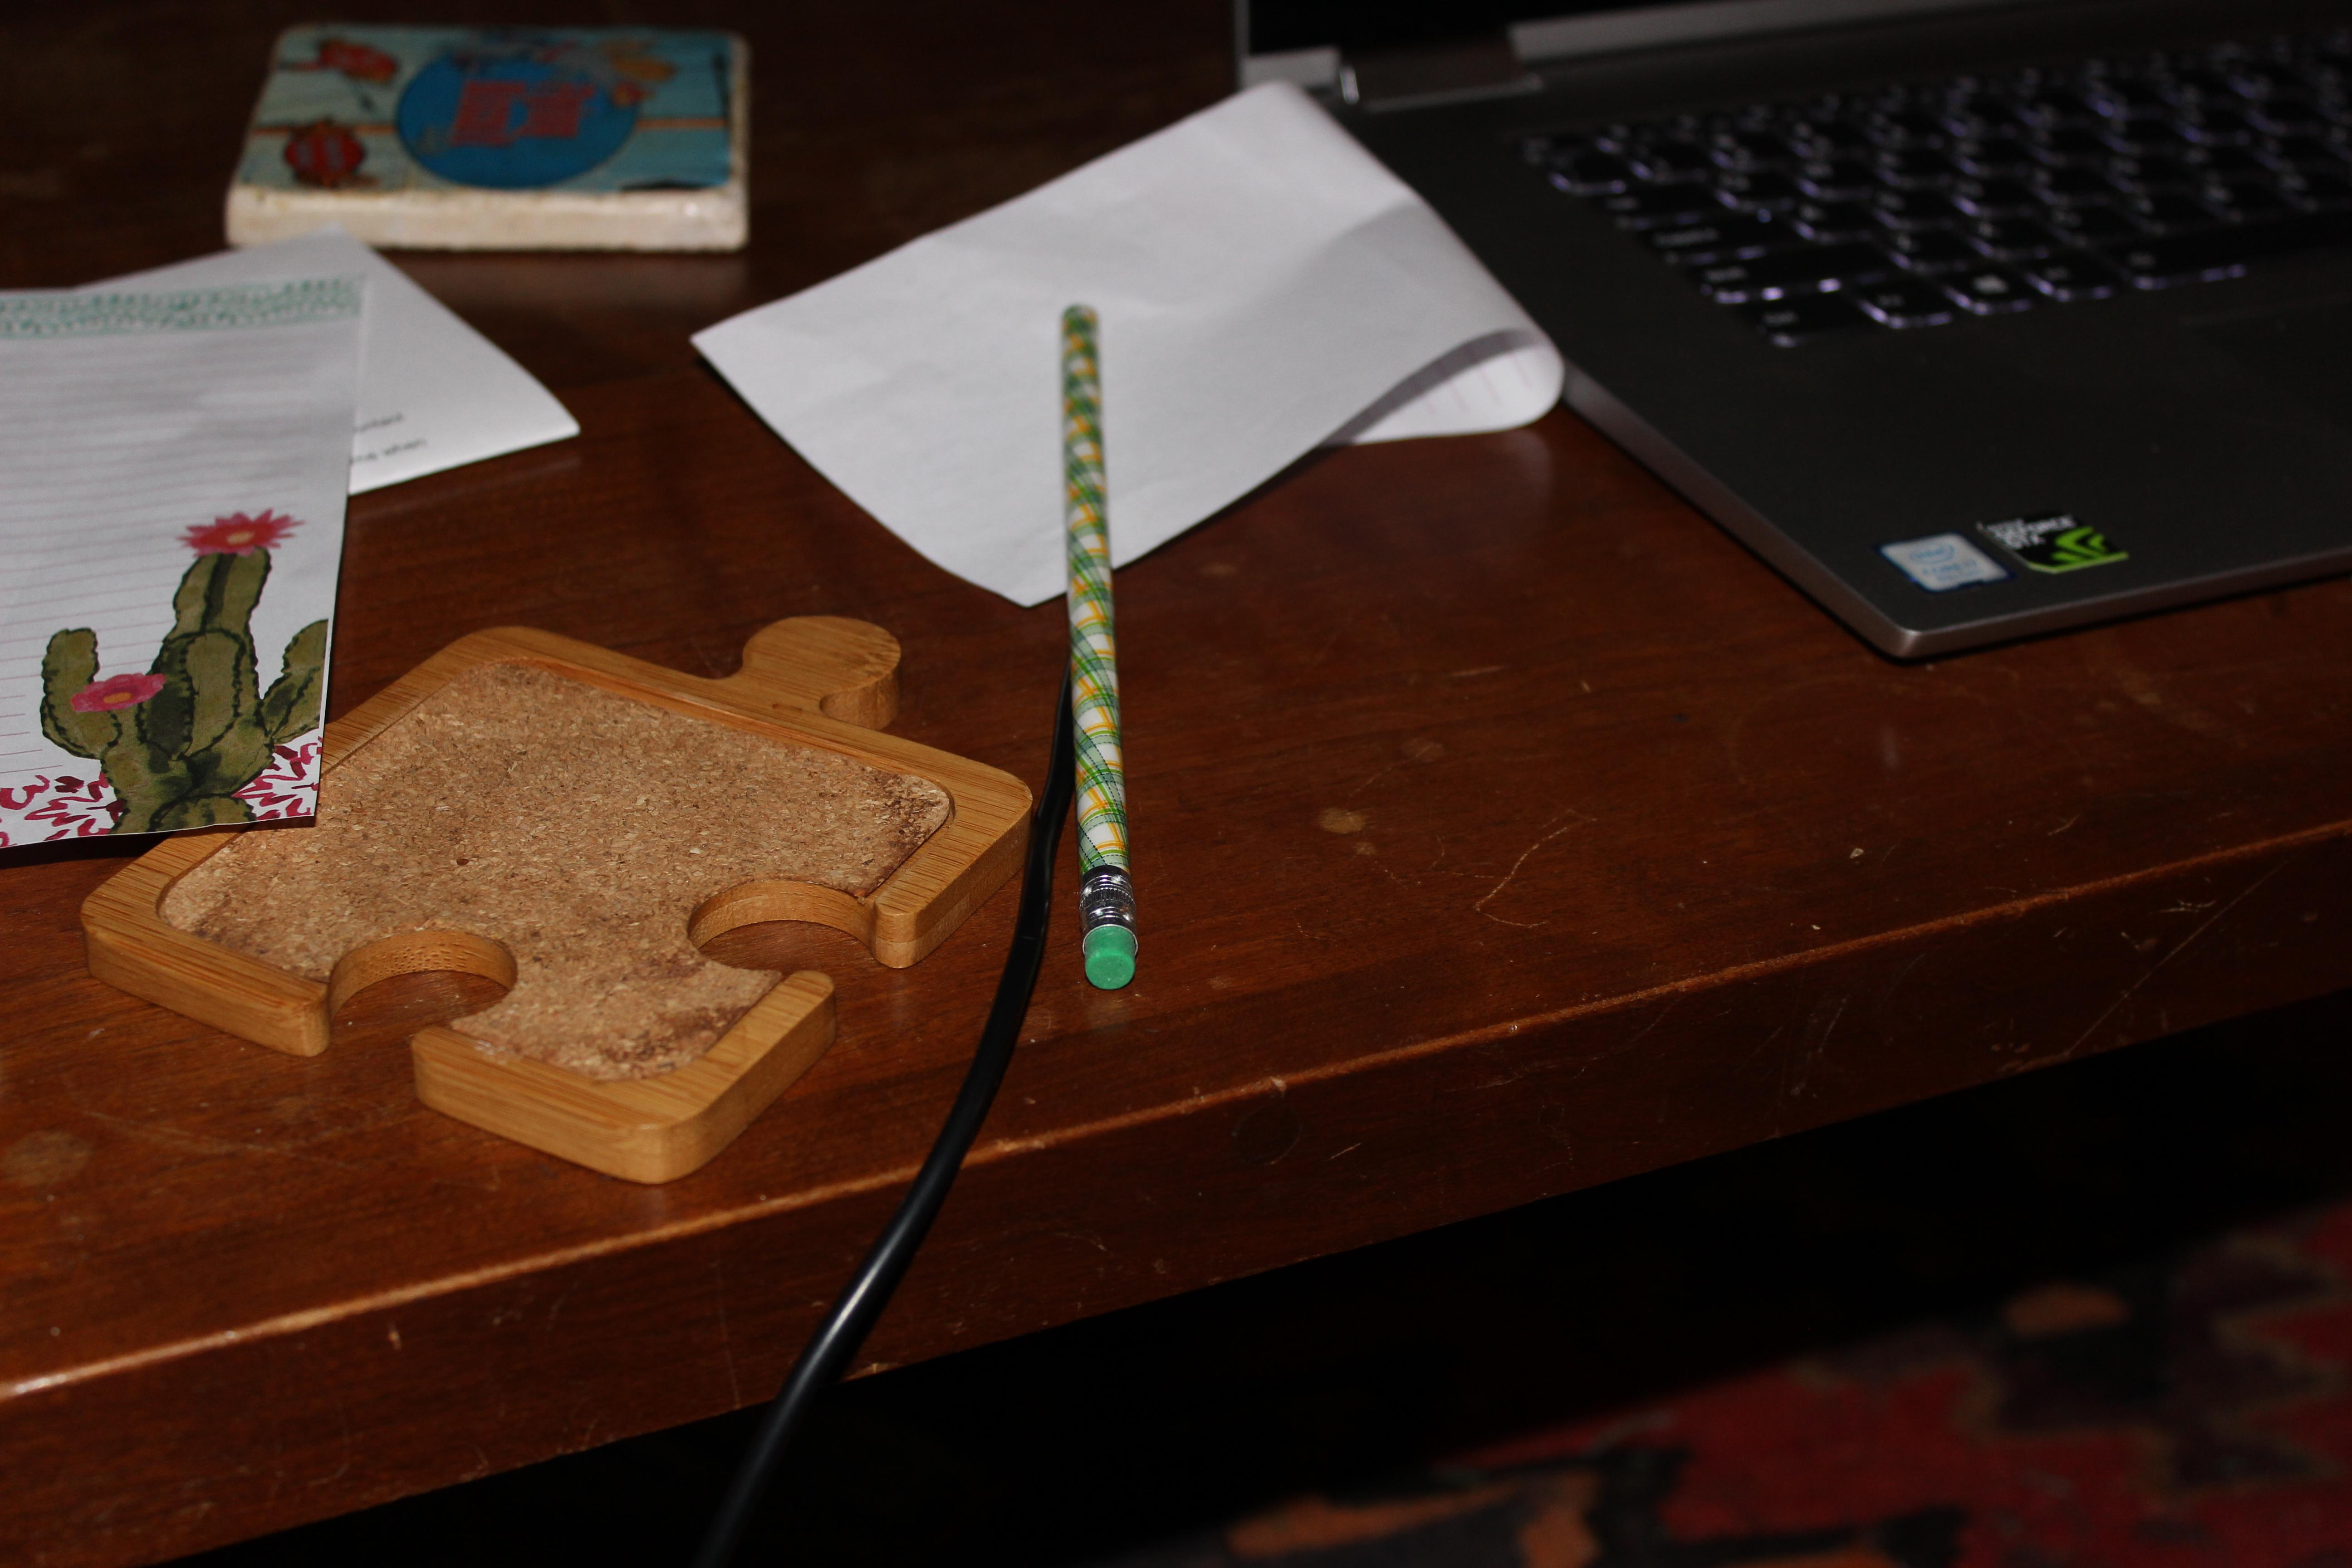plaidPencil: (1025, 275, 1174, 1015)
